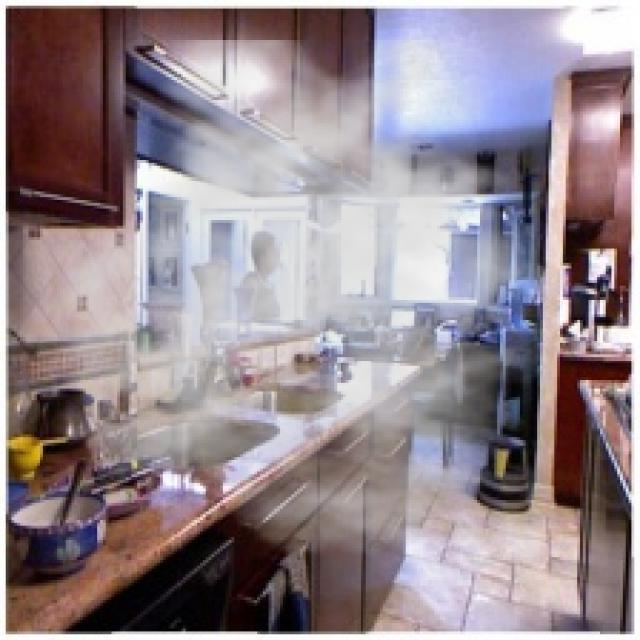Smoke: (29, 40, 598, 557)
